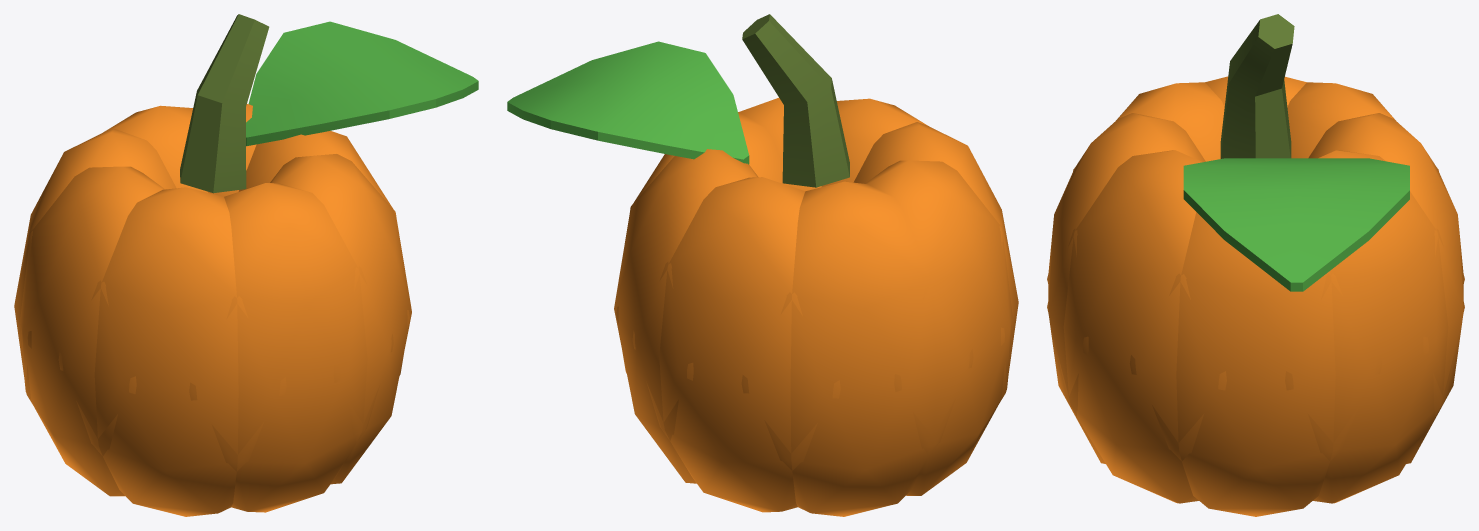
File: Pumpkin.fbx
The picture shows the model from 3 angles, left to right: view 1: azimuth 30°, elevation 25°; view 2: azimuth 150°, elevation 25°; view 3: azimuth 270°, elevation 25°; orthographic projection. The views are drawn at different scales.
Visible parts, largest first — view 1: Pumpkin_Pumpkin, Pumpkin_Leaf, Pumpkin_Vine; view 2: Pumpkin_Pumpkin, Pumpkin_Leaf, Pumpkin_Vine; view 3: Pumpkin_Pumpkin, Pumpkin_Leaf, Pumpkin_Vine.
Boxes of the visible parts, x1,y1,x2,y2 form: Pumpkin_Pumpkin: (14, 104, 411, 516); Pumpkin_Leaf: (246, 21, 478, 146); Pumpkin_Vine: (180, 14, 269, 193); Pumpkin_Pumpkin: (614, 97, 1018, 516); Pumpkin_Leaf: (507, 41, 749, 164); Pumpkin_Vine: (742, 14, 849, 187); Pumpkin_Pumpkin: (1047, 76, 1464, 516); Pumpkin_Leaf: (1183, 158, 1409, 291); Pumpkin_Vine: (1220, 14, 1294, 158).
Bounding box in the file's own units: 272 × 256 × 204.
